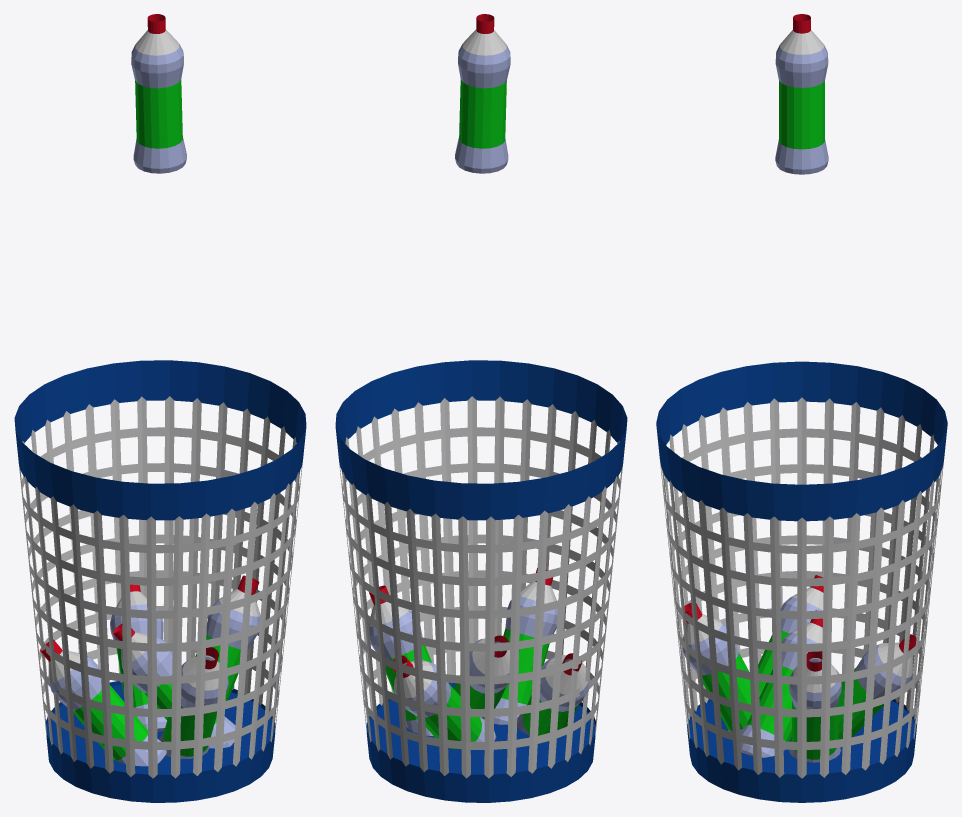
File: DustbinWithCan_000003.obj
3 views of the same model, side by side, from view 1: azimuth 30°, elevation 25°; view 2: azimuth 150°, elevation 25°; view 3: azimuth 270°, elevation 25° (orthographic).
Parts seen in each view (by area): view 1: Cylinder, Plane.006, Plane.005, Plane.001, Plane.004, Plane.003, Plane.002; view 2: Cylinder, Plane.006, Plane.001, Plane.002, Plane.005, Plane.003, Plane.004; view 3: Cylinder, Plane.006, Plane.001, Plane.003, Plane.004, Plane.002, Plane.005.
Boxes of the visible parts, x1,y1,x2,y2 form: Cylinder: (14,360,306,802); Plane.006: (131,14,186,173); Plane.005: (40,639,166,766); Plane.001: (159,647,228,758); Plane.004: (113,624,235,748); Plane.003: (195,575,260,700); Plane.002: (110,584,166,731); Cylinder: (335,360,627,802); Plane.006: (455,14,510,173); Plane.001: (484,568,557,724); Plane.002: (392,655,496,749); Plane.005: (517,653,590,735); Plane.003: (368,585,433,736); Plane.004: (454,635,509,718); Cylinder: (656,361,947,802); Plane.006: (775,14,828,174); Plane.001: (682,603,760,732); Plane.003: (789,651,841,762); Plane.004: (740,610,822,757); Plane.002: (838,634,920,739); Plane.005: (758,575,823,693).
Size of the model in its own units: 2.6 by 7.25 by 2.6.
